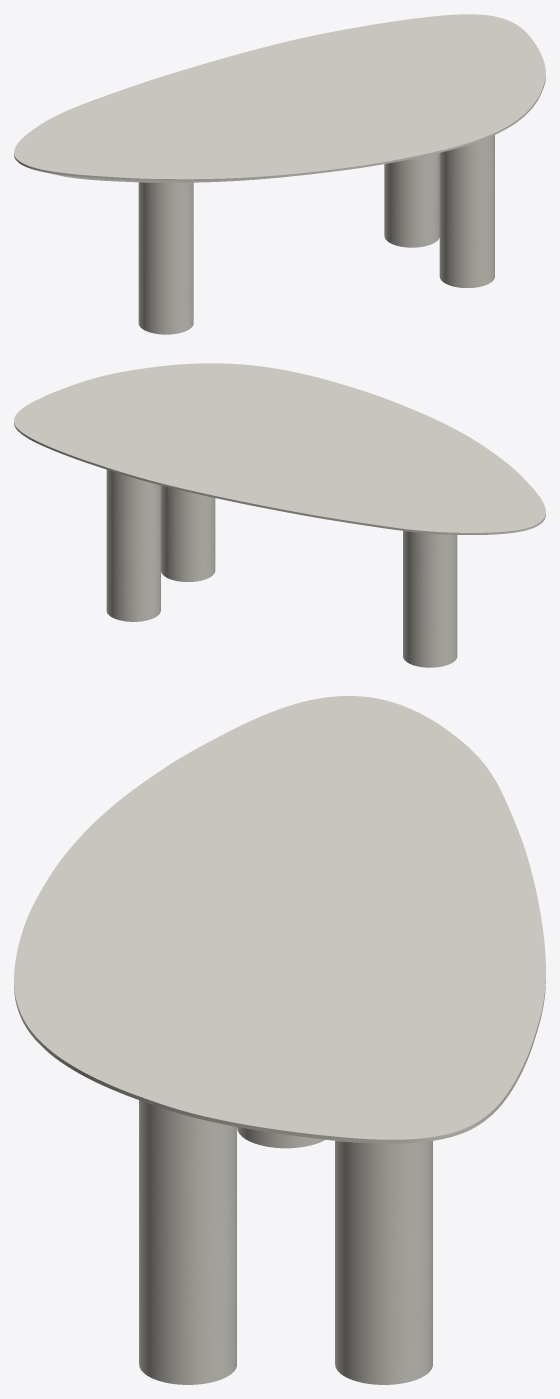
Rendered from pale_pebbletop_facet_cylinder.glb.
3 renders of one model, top to bottom at view 1: azimuth 30°, elevation 25°; view 2: azimuth 150°, elevation 25°; view 3: azimuth 270°, elevation 25°, orthographic. The views are drawn at different scales.
Visible parts, largest first — view 1: facet_pebbletop, cylinder; view 2: facet_pebbletop, cylinder; view 3: facet_pebbletop, cylinder.
Boxes of the visible parts, x1,y1,x2,y2 form: facet_pebbletop: [14, 14, 545, 182]; cylinder: [138, 135, 494, 334]; facet_pebbletop: [14, 363, 545, 534]; cylinder: [106, 470, 457, 667]; facet_pebbletop: [14, 696, 545, 1143]; cylinder: [139, 1100, 432, 1384].
Bounding box in the file's own units: 7.5 × 2.52 × 3.8.
1 material, 1 textured.
